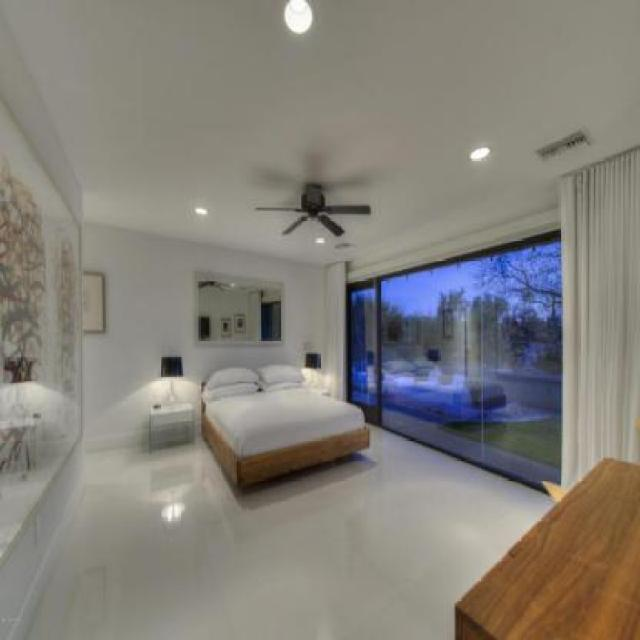floor: (24, 417, 558, 638)
